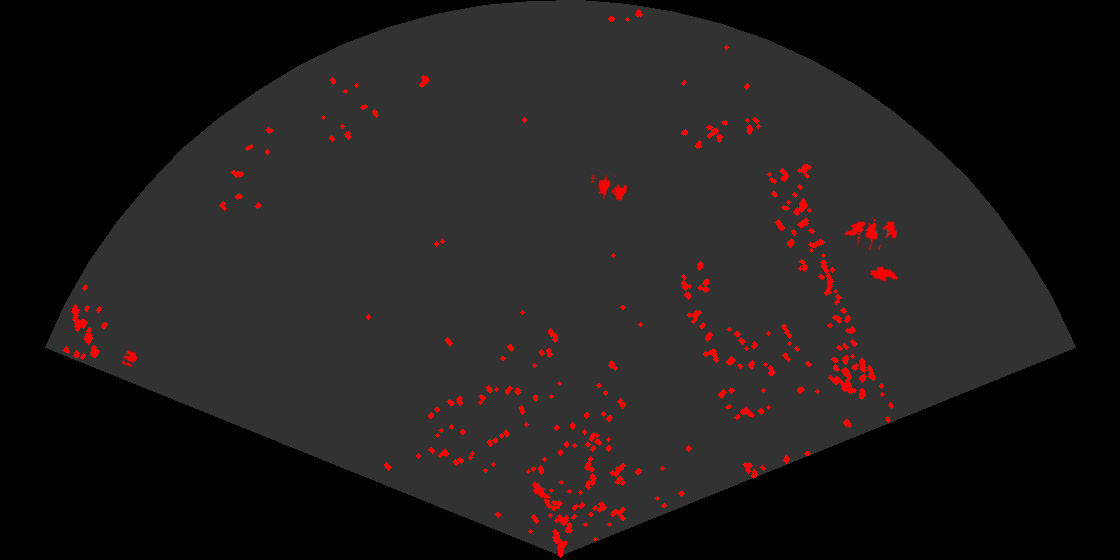AUV: (868, 265, 900, 283), (530, 480, 552, 501), (843, 219, 867, 238)
ball: (120, 348, 139, 369)
cage: (857, 217, 899, 250), (591, 175, 629, 203)
